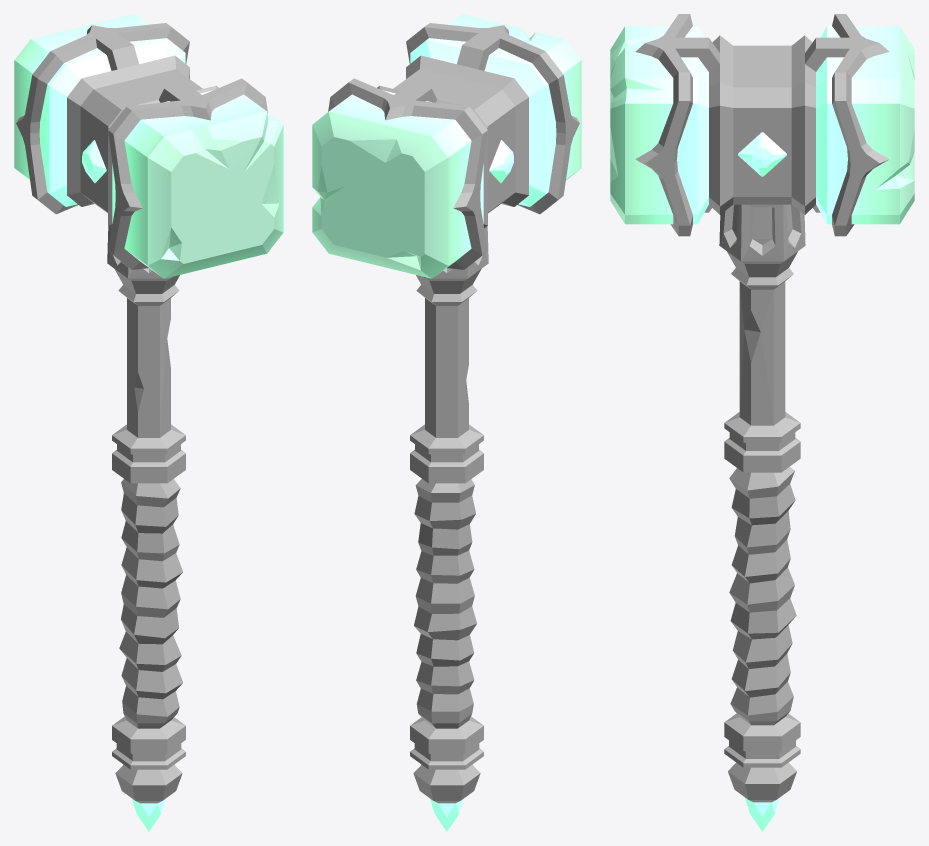
File: SM_Wep_Hammer_01.fbx
3 views of the same model, side by side, from view 1: azimuth 30°, elevation 25°; view 2: azimuth 150°, elevation 25°; view 3: azimuth 270°, elevation 25° (orthographic). The views are drawn at different scales.
Parts seen in each view (by area): view 1: SM_Wep_Hammer_01; view 2: SM_Wep_Hammer_01; view 3: SM_Wep_Hammer_01.
Boxes of the visible parts, x1=… form: SM_Wep_Hammer_01: x1=14, y1=14, x2=283, y2=831; SM_Wep_Hammer_01: x1=312, y1=14, x2=581, y2=831; SM_Wep_Hammer_01: x1=610, y1=14, x2=914, y2=831.
Bounding box in the file's own units: 28.55 × 137 × 48.01.
